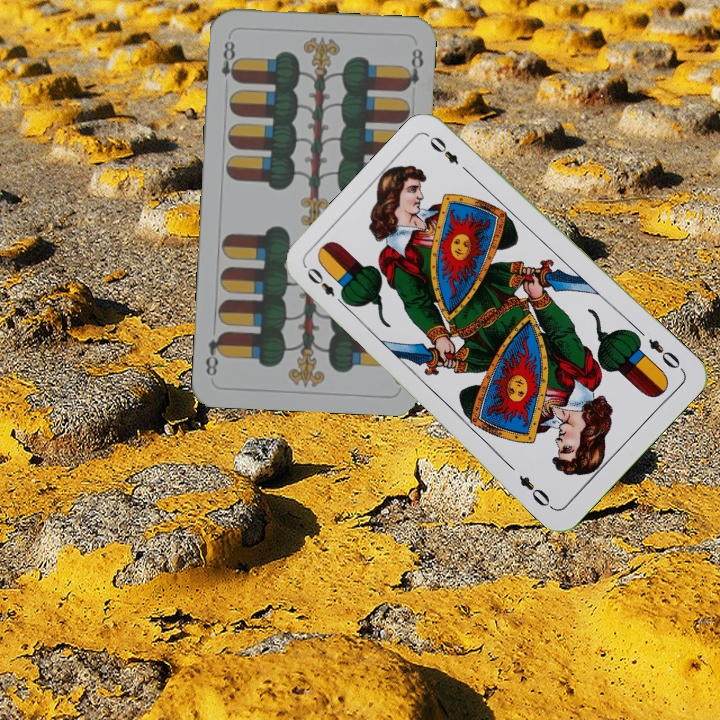E8: (217, 32, 241, 85)
EO: (303, 263, 350, 310), (644, 334, 686, 374)
